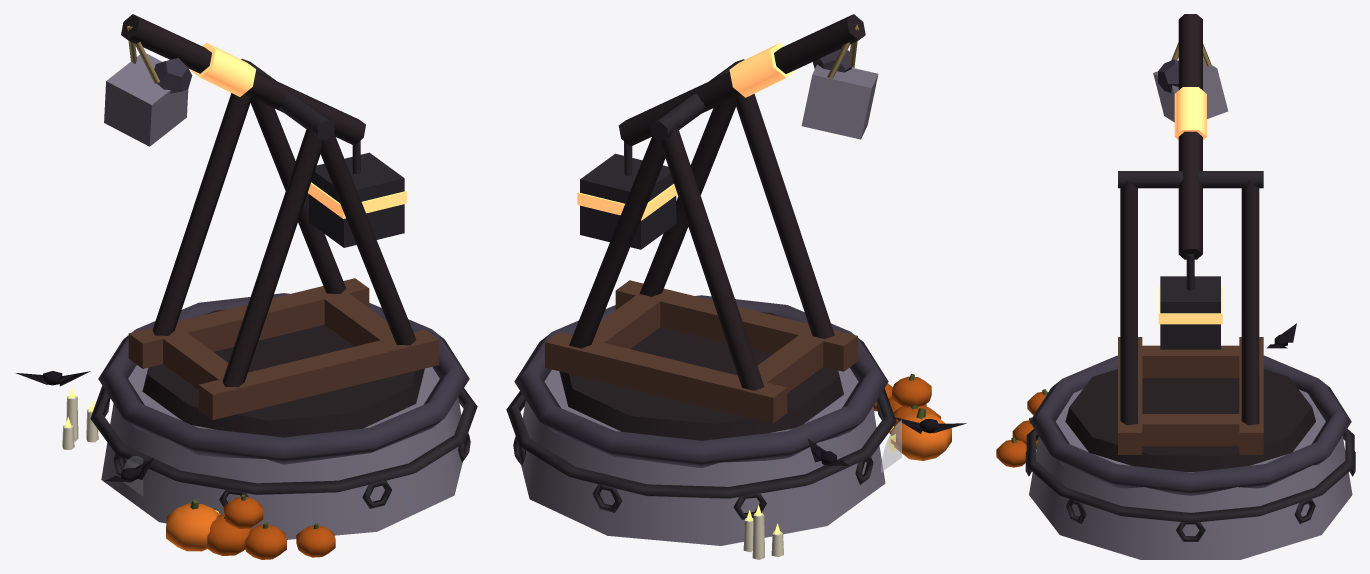
The model's file is tower_catapult_fortressBreaker.glb.
3 renders of one model, left to right at view 1: azimuth 30°, elevation 25°; view 2: azimuth 150°, elevation 25°; view 3: azimuth 270°, elevation 25°, orthographic. The views are drawn at different scales.
Visible parts, largest first — view 1: base, base_rim, turntable, rail_l, rail_r, aframe_back_l, chain_band, aframe_back_r, breaker_block, aframe_front_l, arm_beam, counterweight (+13 smaller); view 2: base, base_rim, turntable, rail_r, rail_l, aframe_back_r, chain_band, aframe_back_l, arm_beam, aframe_front_r, counterweight, breaker_block (+10 smaller); view 3: base, turntable, base_rim, arm_beam, aframe_front_r, chain_band, aframe_front_l, counterweight, cross_e, cross_w, axle, arm_band (+6 smaller).
Boxes of the visible parts, bbox=[...] form: base: bbox=[101, 365, 462, 539]; base_rim: bbox=[98, 293, 469, 464]; turntable: bbox=[142, 309, 424, 437]; rail_l: bbox=[198, 329, 439, 419]; rail_r: bbox=[128, 278, 369, 368]; aframe_back_l: bbox=[222, 125, 322, 387]; chain_band: bbox=[90, 385, 477, 494]; aframe_back_r: bbox=[152, 93, 251, 335]; breaker_block: bbox=[104, 53, 188, 146]; aframe_front_l: bbox=[320, 134, 416, 345]; arm_beam: bbox=[121, 14, 365, 145]; counterweight: bbox=[309, 152, 404, 247]; base: bbox=[521, 367, 885, 545]; base_rim: bbox=[514, 295, 888, 467]; turntable: bbox=[559, 312, 843, 440]; rail_r: bbox=[545, 332, 787, 423]; rail_l: bbox=[615, 280, 857, 371]; aframe_back_r: bbox=[660, 123, 764, 390]; chain_band: bbox=[506, 388, 896, 498]; aframe_back_l: bbox=[733, 93, 834, 338]; arm_beam: bbox=[618, 14, 865, 146]; aframe_front_r: bbox=[569, 136, 665, 348]; counterweight: bbox=[580, 153, 676, 249]; breaker_block: bbox=[801, 64, 878, 139]; base: bbox=[1029, 389, 1352, 559]; turntable: bbox=[1065, 369, 1315, 471]; base_rim: bbox=[1030, 355, 1351, 495]; arm_beam: bbox=[1178, 14, 1202, 259]; aframe_front_r: bbox=[1241, 180, 1259, 425]; chain_band: bbox=[1026, 429, 1354, 522]; aframe_front_l: bbox=[1120, 180, 1137, 425]; counterweight: bbox=[1160, 276, 1220, 349]; cross_e: bbox=[1118, 414, 1263, 446]; cross_w: bbox=[1118, 345, 1263, 377]; axle: bbox=[1118, 171, 1263, 188]; arm_band: bbox=[1174, 87, 1206, 139].
Size of the model in its own units: 0.483 by 0.5707 by 0.4443.
